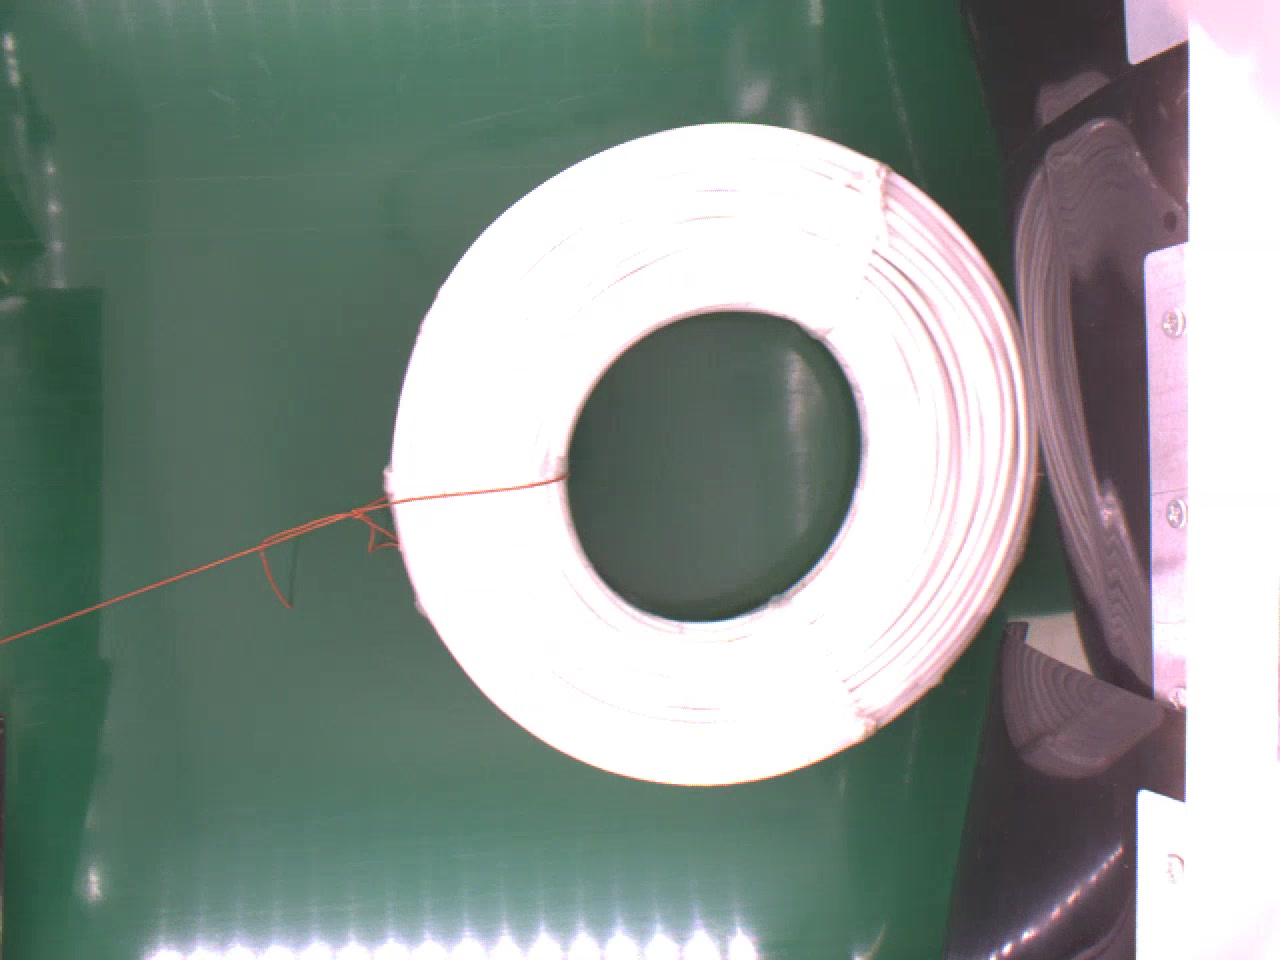white: (373, 121, 1036, 800)
